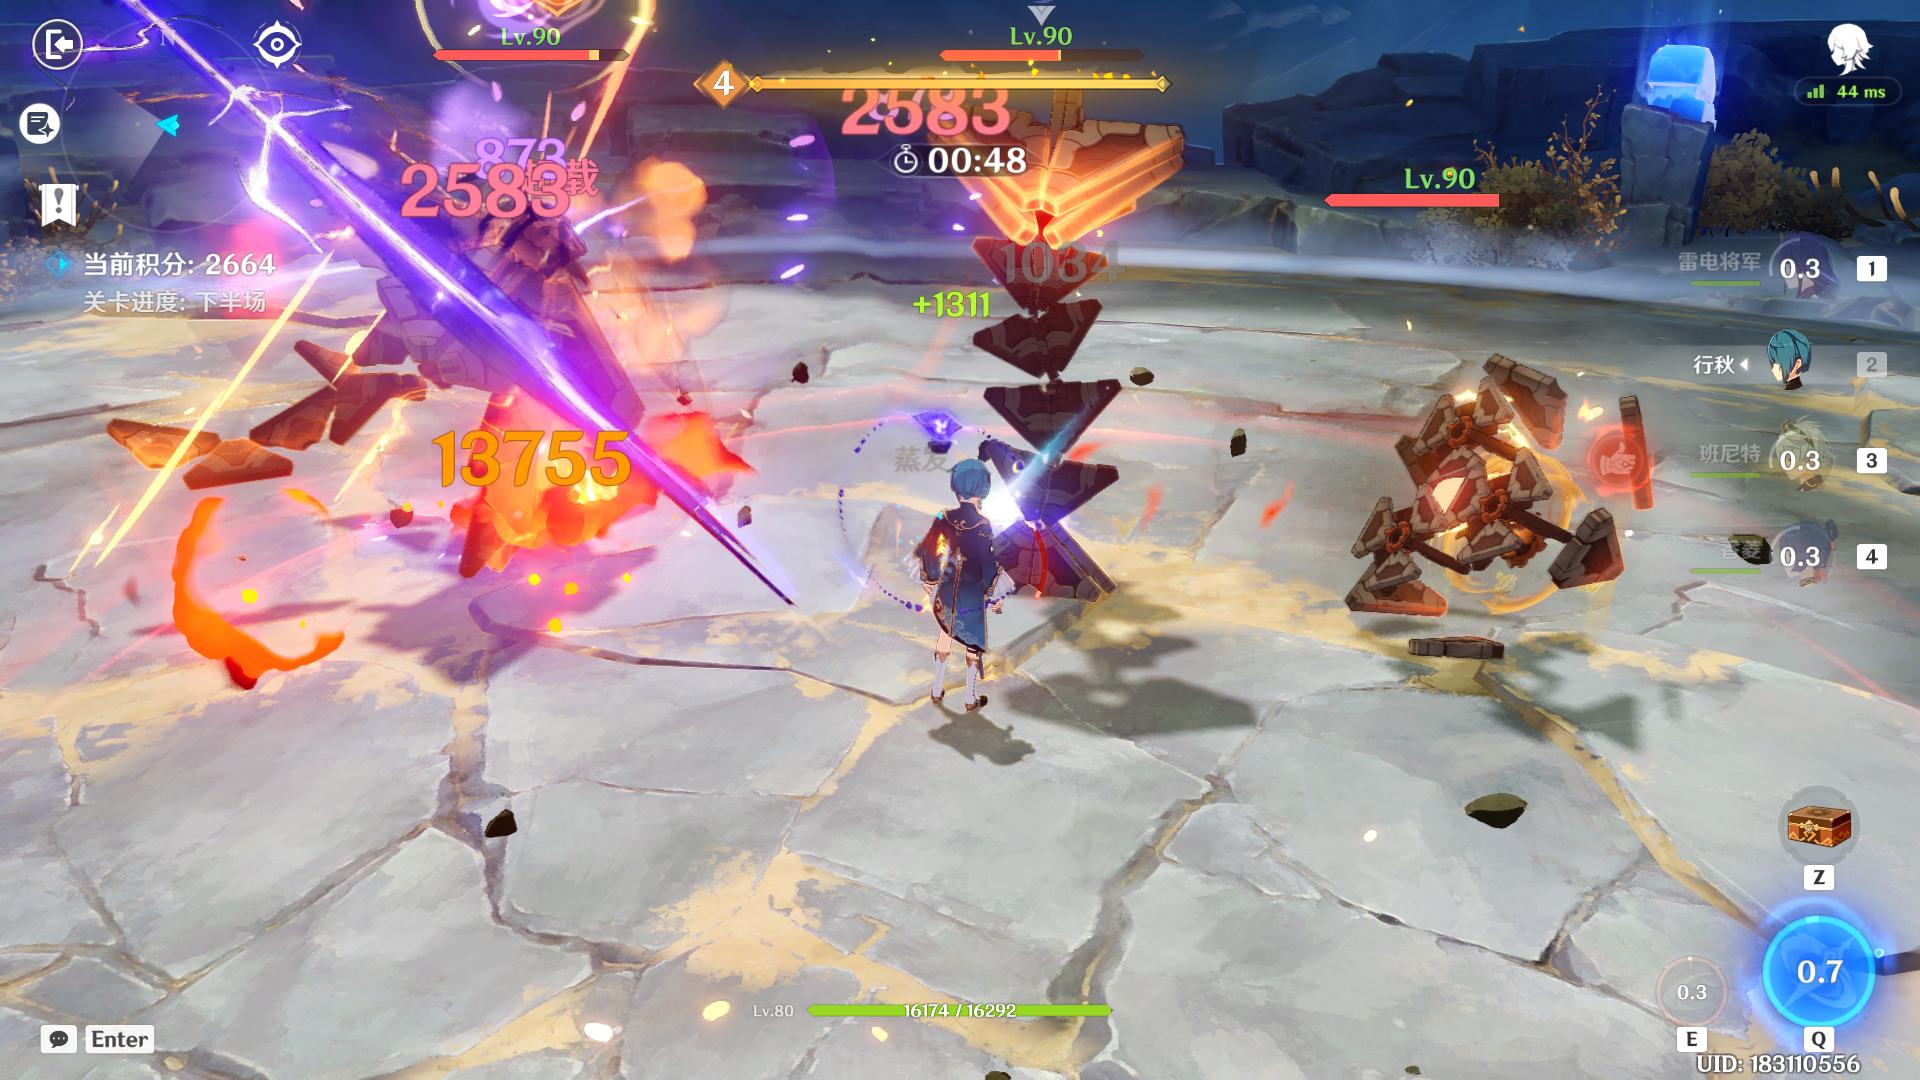character: (876, 410, 1065, 749)
